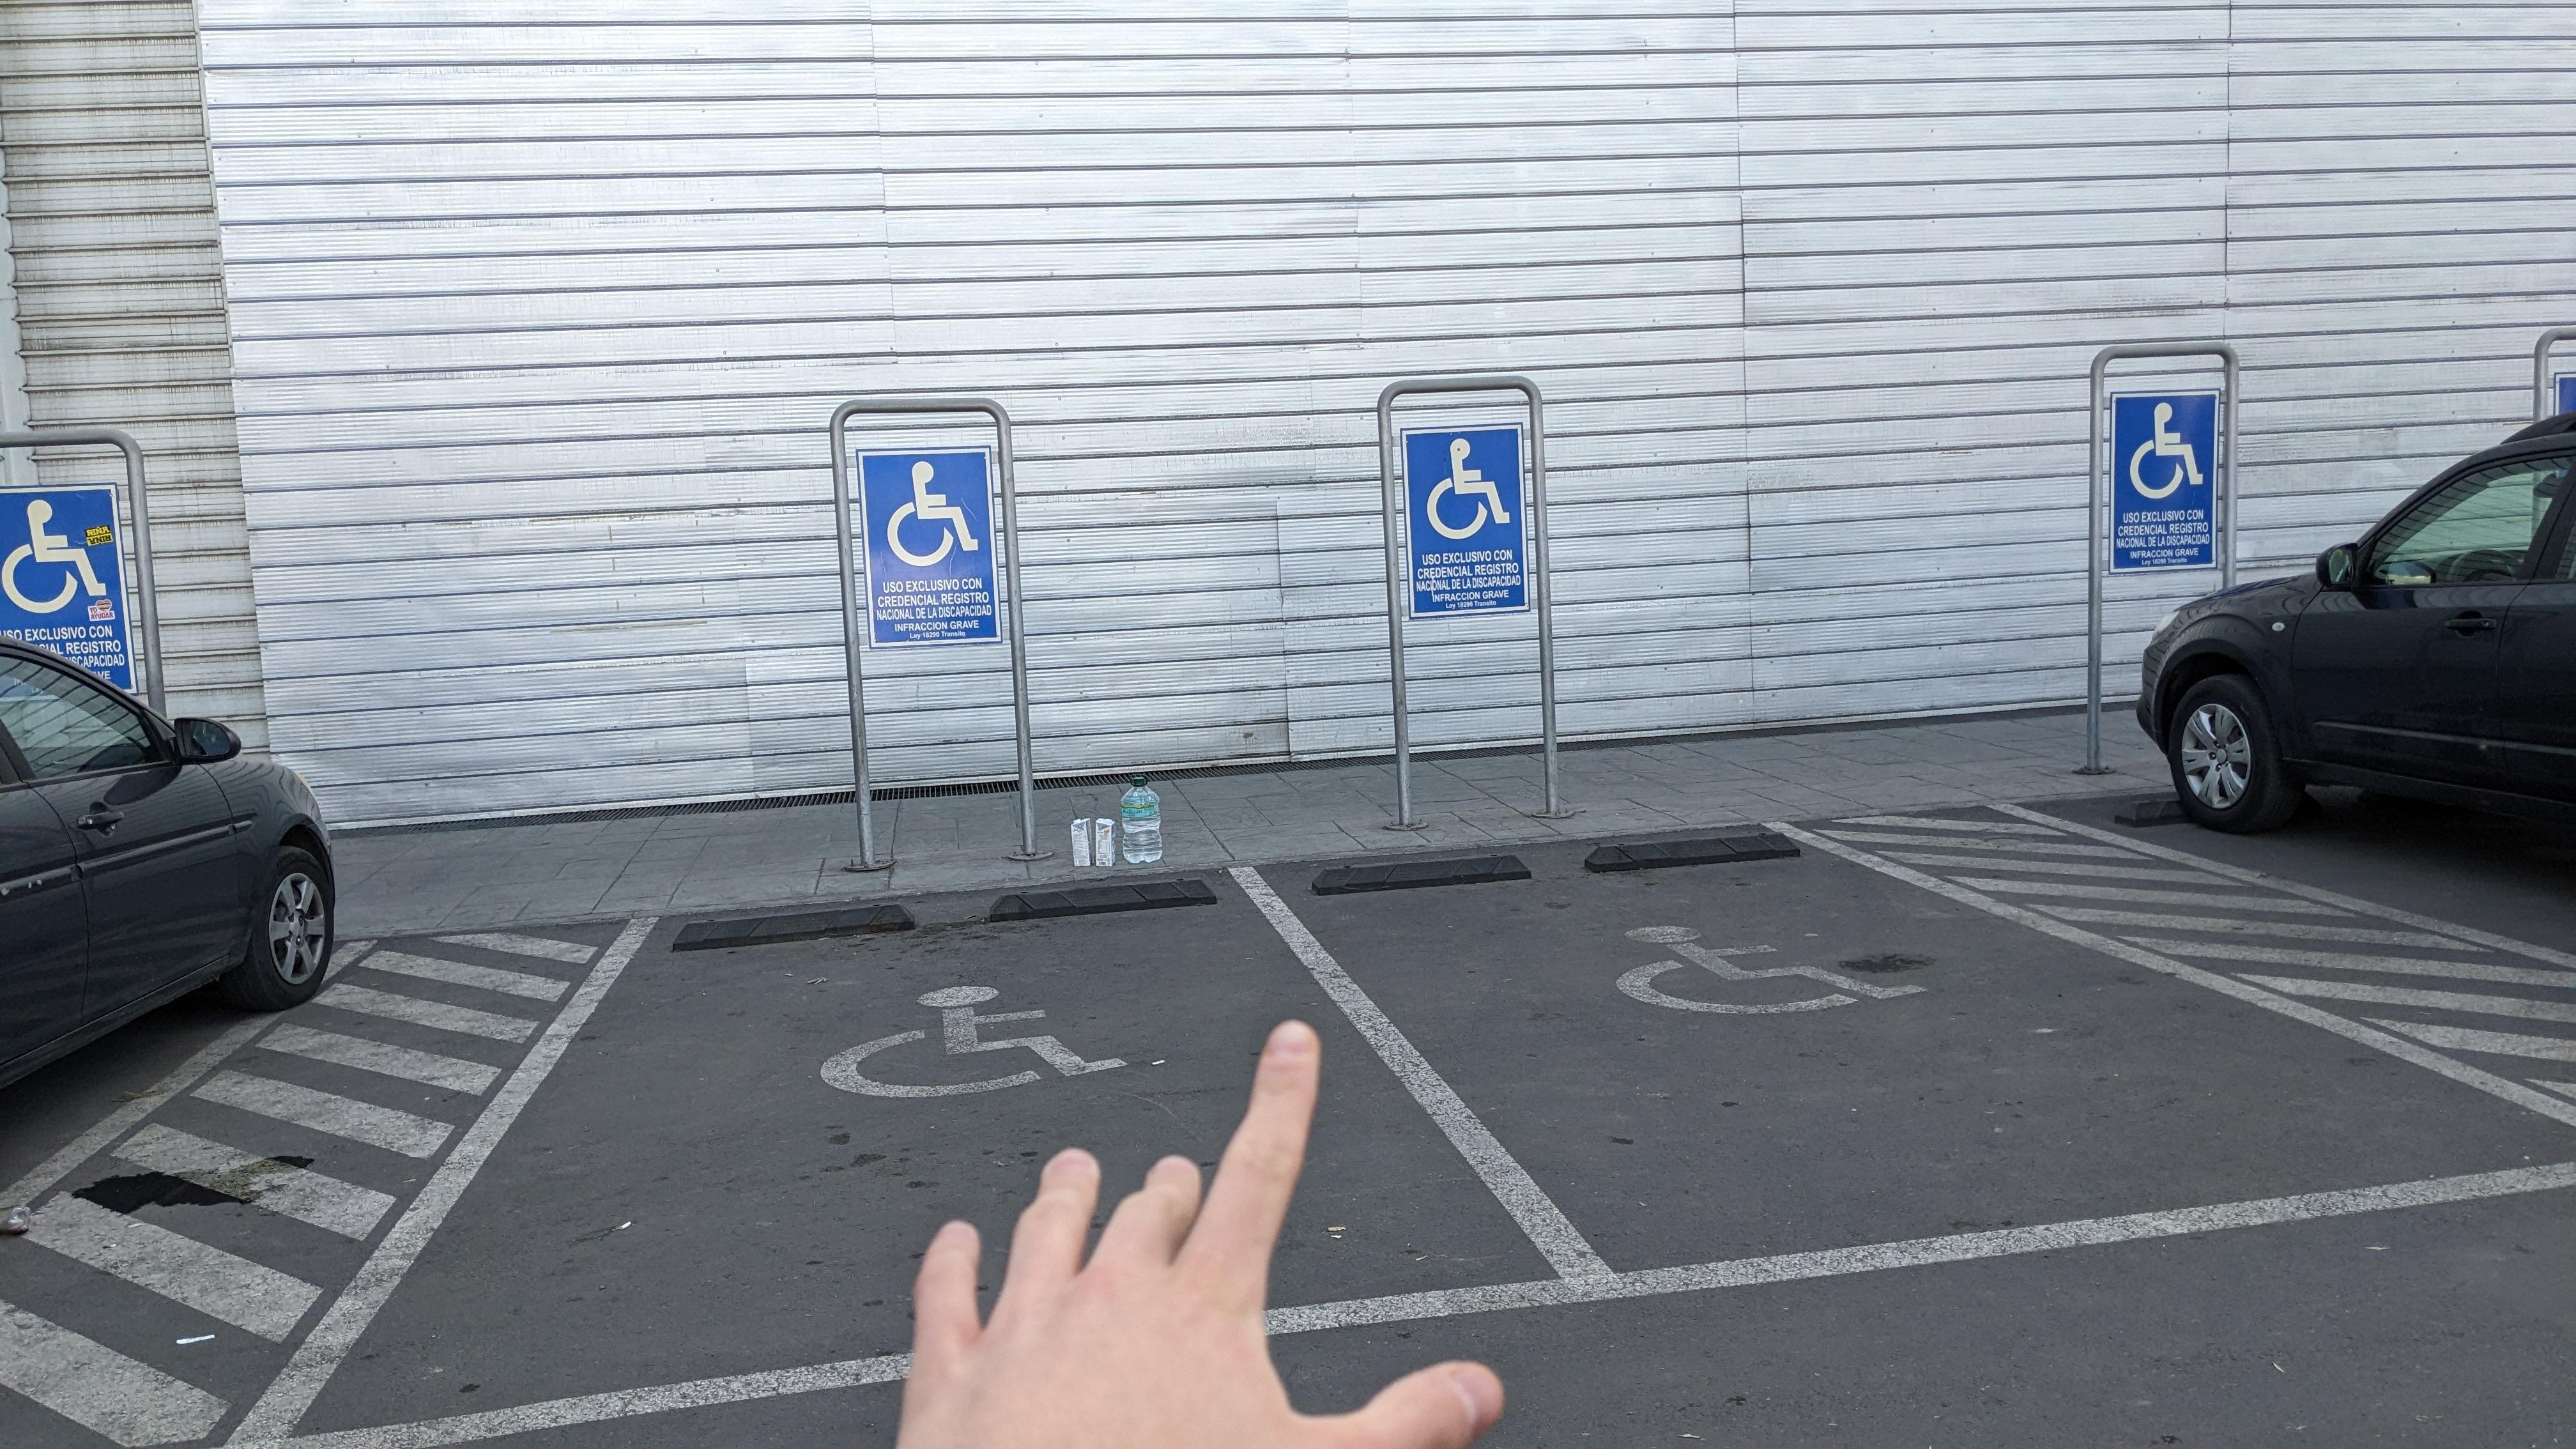handicapped symbol: (819, 973, 1134, 1109), (1603, 908, 1934, 1031), (0, 492, 113, 616), (878, 456, 984, 573), (1421, 435, 1522, 547), (2120, 391, 2206, 506)
